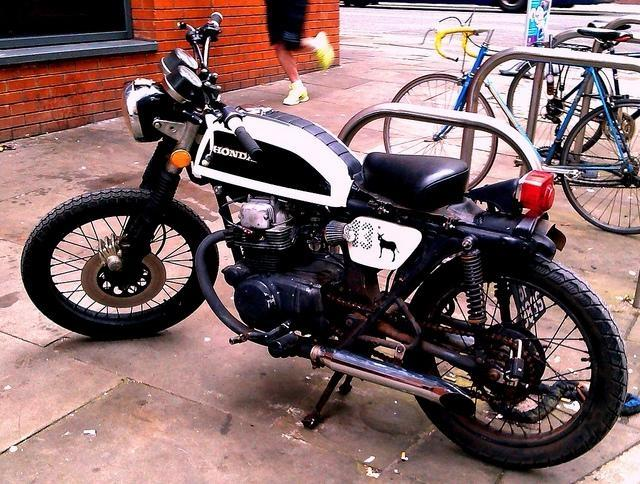bicycle: (383, 13, 640, 235)
motorcycle: (22, 12, 632, 470)
